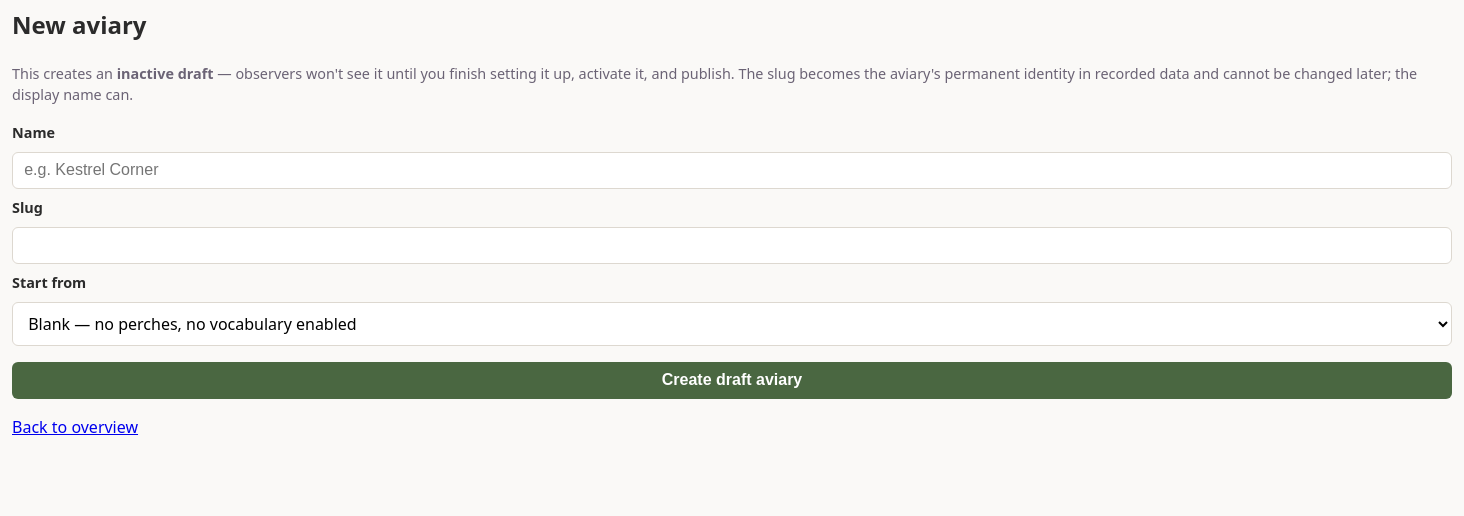
Test: NewAviaryPage › shows the server's rejection (e.g. duplicate slug) inline
Type "Sayyida's Cove" into the field labelled "Name".
click(732, 170); type("Sayyida's Cove")  # box x1=12 y1=152 x2=1452 y2=189
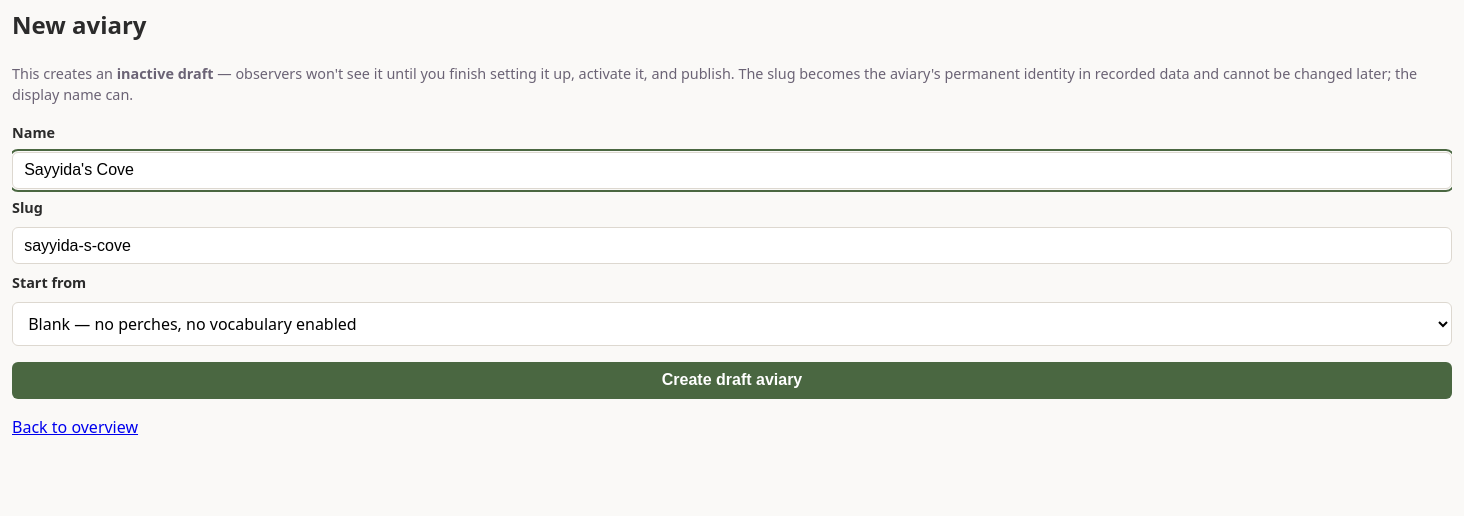
Click the button "Create draft aviary".
click(732, 380)  # box x1=12 y1=362 x2=1452 y2=399
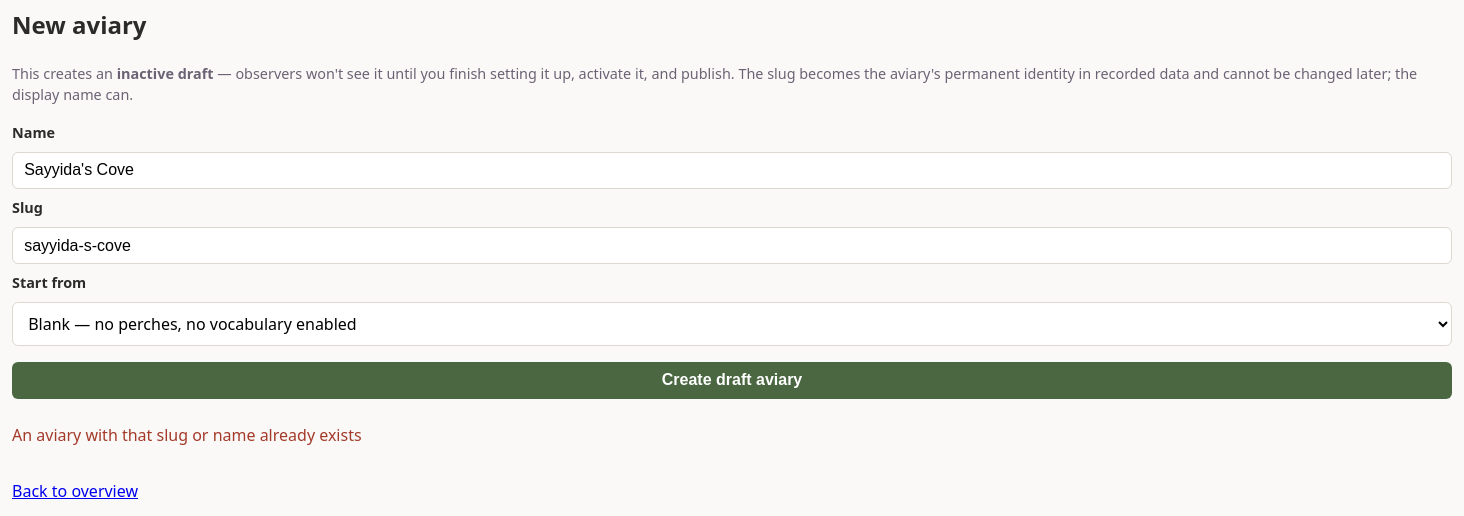
Expected: the message shows "already exists", x1=12 y1=424 x2=362 y2=446
